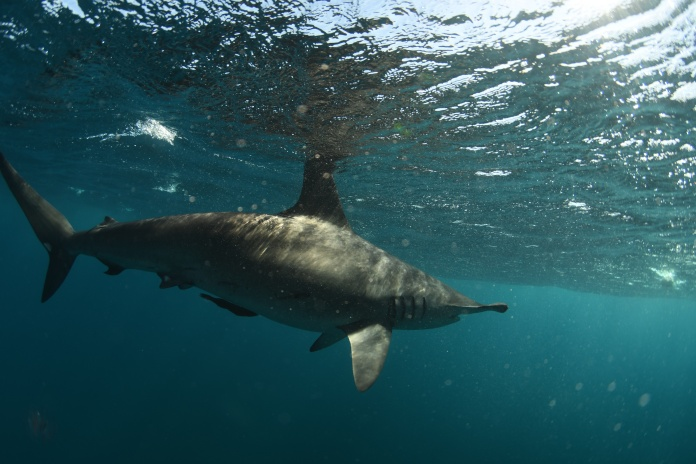Hammer: (1, 127, 538, 417)
